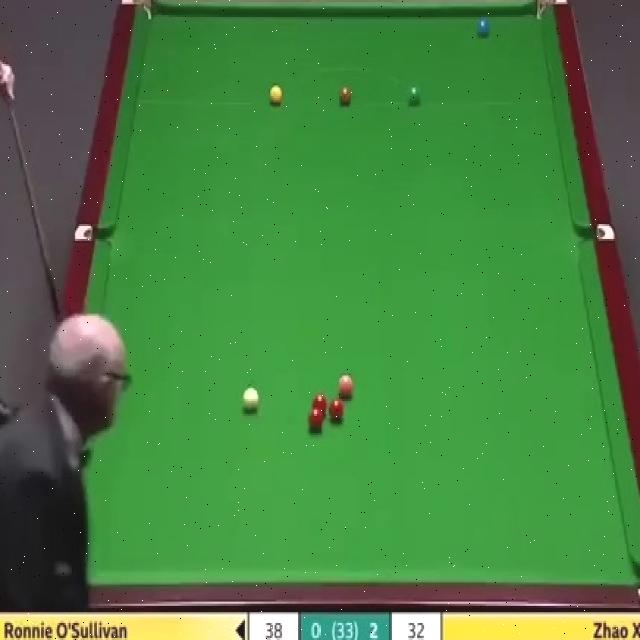blue-ball: (476, 15, 490, 37)
brown-ball: (338, 88, 352, 105)
green-ball: (407, 84, 422, 108)
pink-ball: (337, 373, 354, 399)
red-ball: (312, 393, 327, 418), (308, 408, 324, 431), (330, 399, 346, 422)
white-ball: (242, 384, 260, 413)
yellow-ball: (268, 85, 283, 106)
